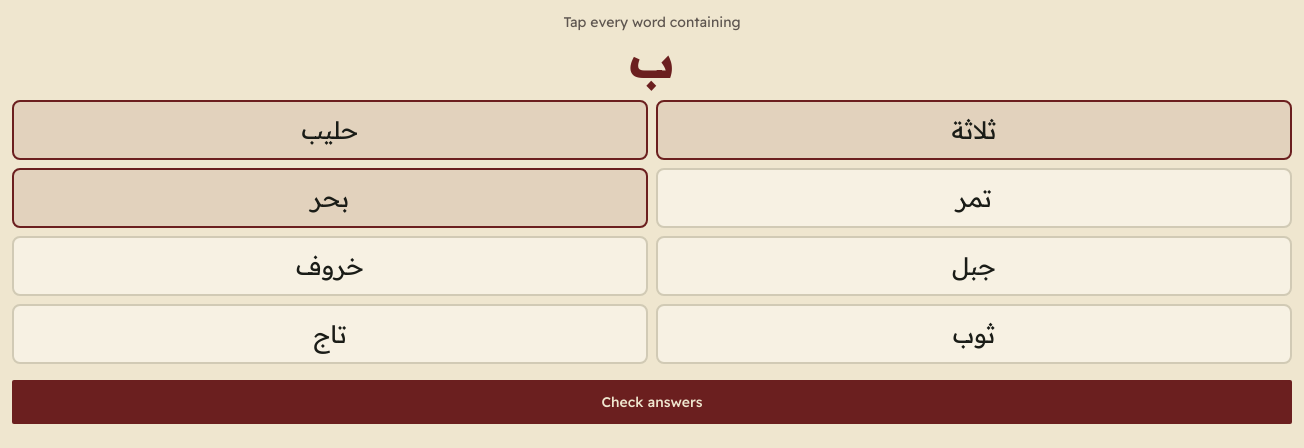
it: answering › encourages a middling score rather than calling it a failure
The width and height of the screenshot is (1304, 448).
Earlier steps of the test are not shown.
Click the button "تمر" at (974, 198), box x1=656 y1=168 x2=1292 y2=228
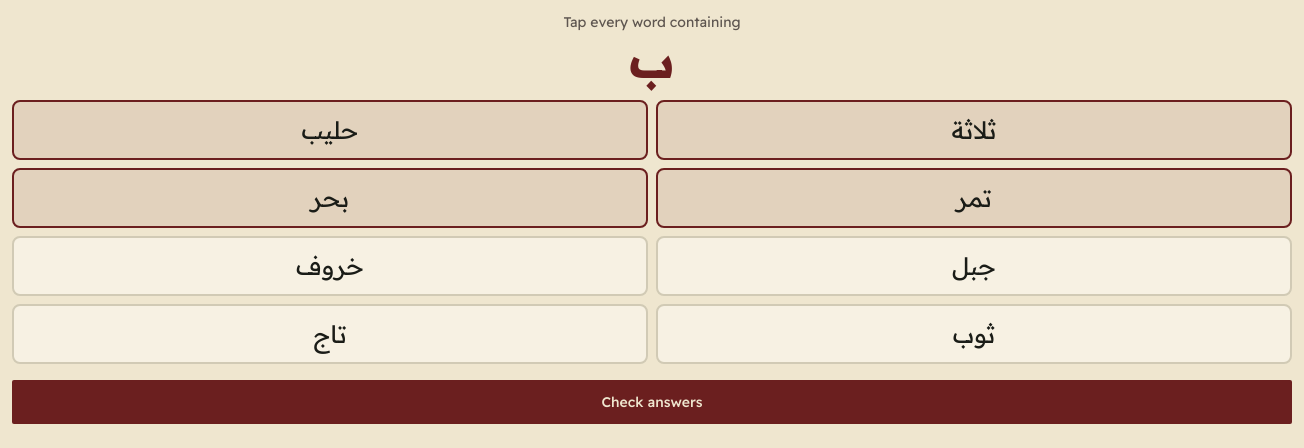
Click the button "خروف" at (330, 266), box x1=12 y1=236 x2=648 y2=296
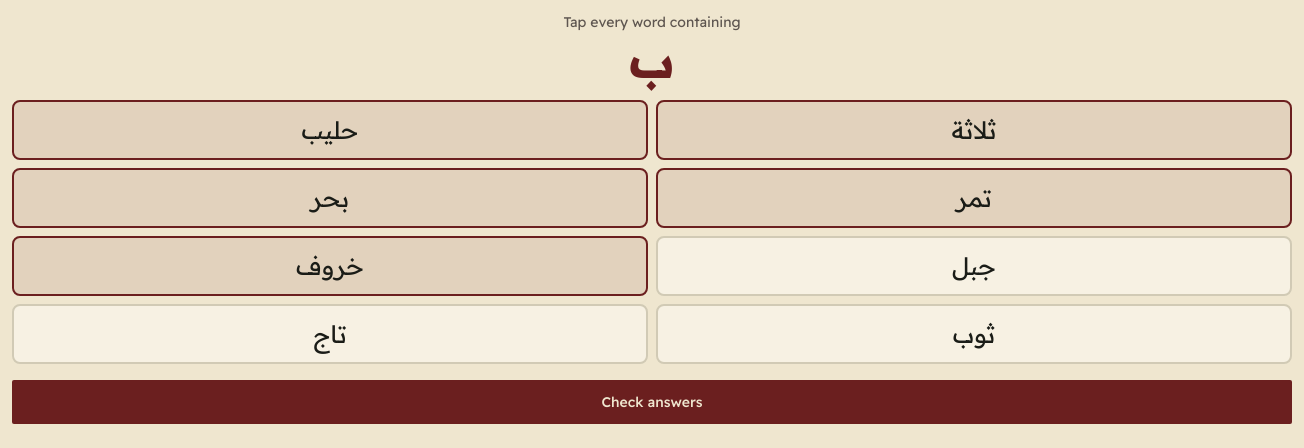
Click the button "جبل" at (974, 266), box x1=656 y1=236 x2=1292 y2=296
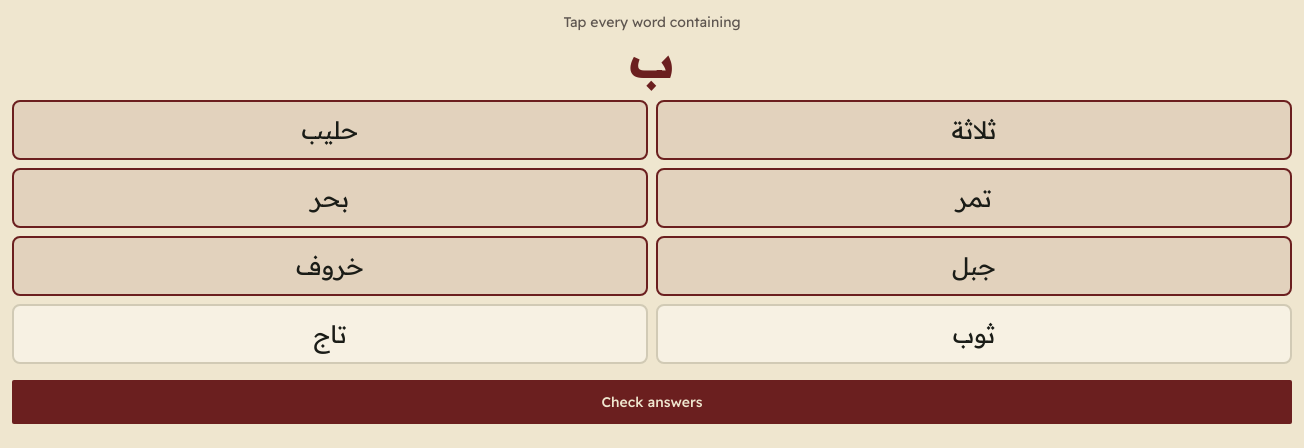
Click the button "تاج" at (330, 334), box x1=12 y1=304 x2=648 y2=364
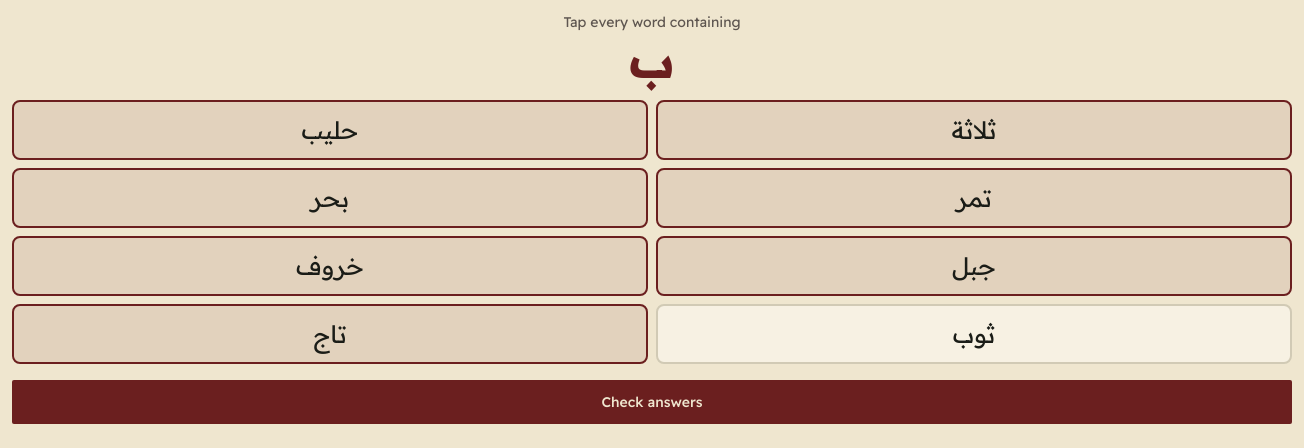
Click the button "ثوب" at (974, 334), box x1=656 y1=304 x2=1292 y2=364
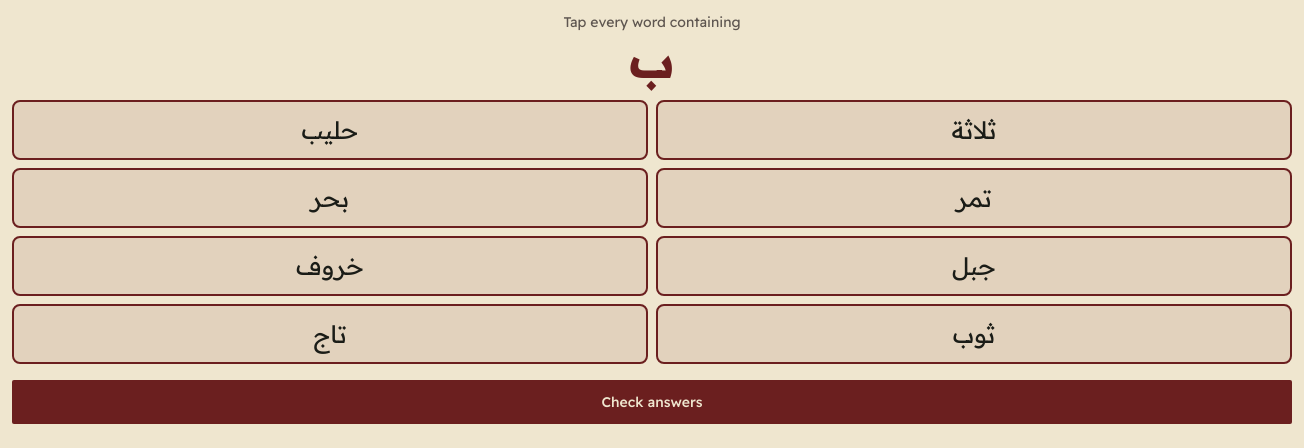
Click the button "Check answers" at (652, 402), box x1=12 y1=380 x2=1292 y2=424
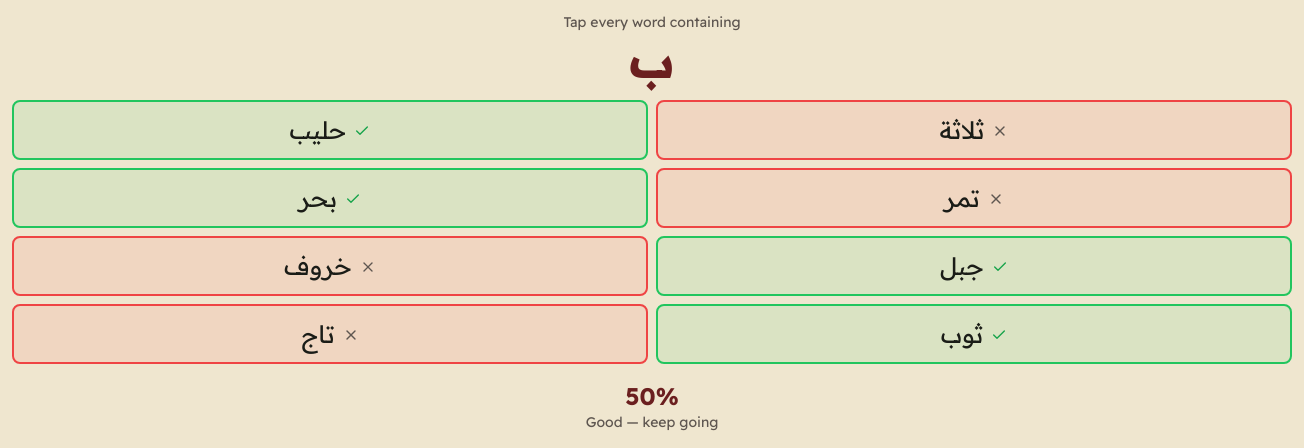
Now the text "50%" is shown, box x1=625 y1=381 x2=679 y2=411
Now the text "Good — keep going" is shown, box x1=586 y1=413 x2=718 y2=431
